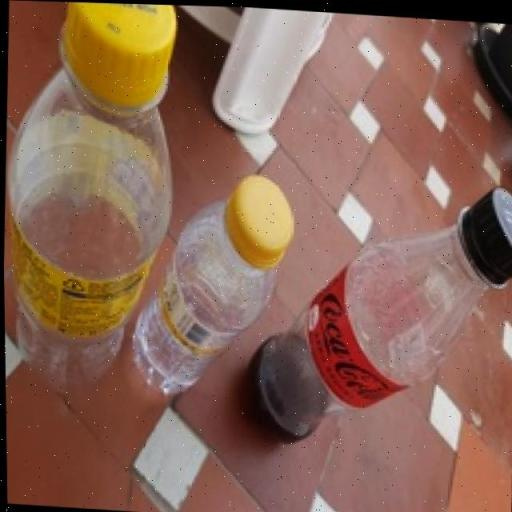plastic: (247, 184, 512, 437), (7, 2, 177, 387), (130, 173, 292, 389)
